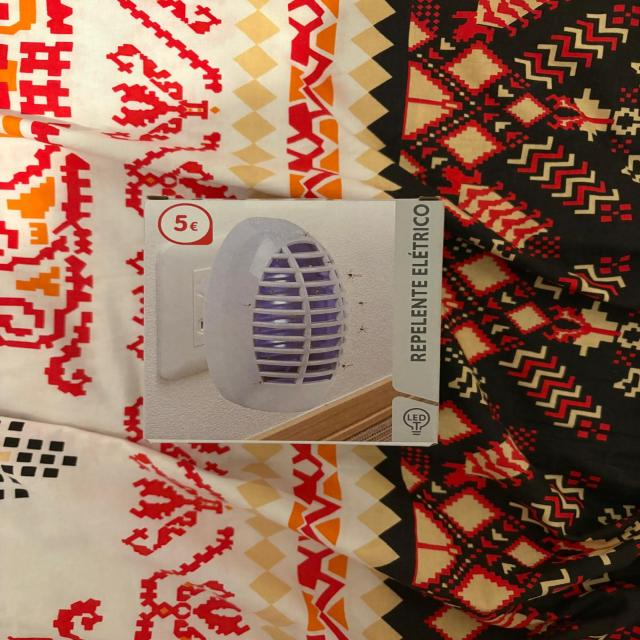good_package: (140, 195, 446, 448)
